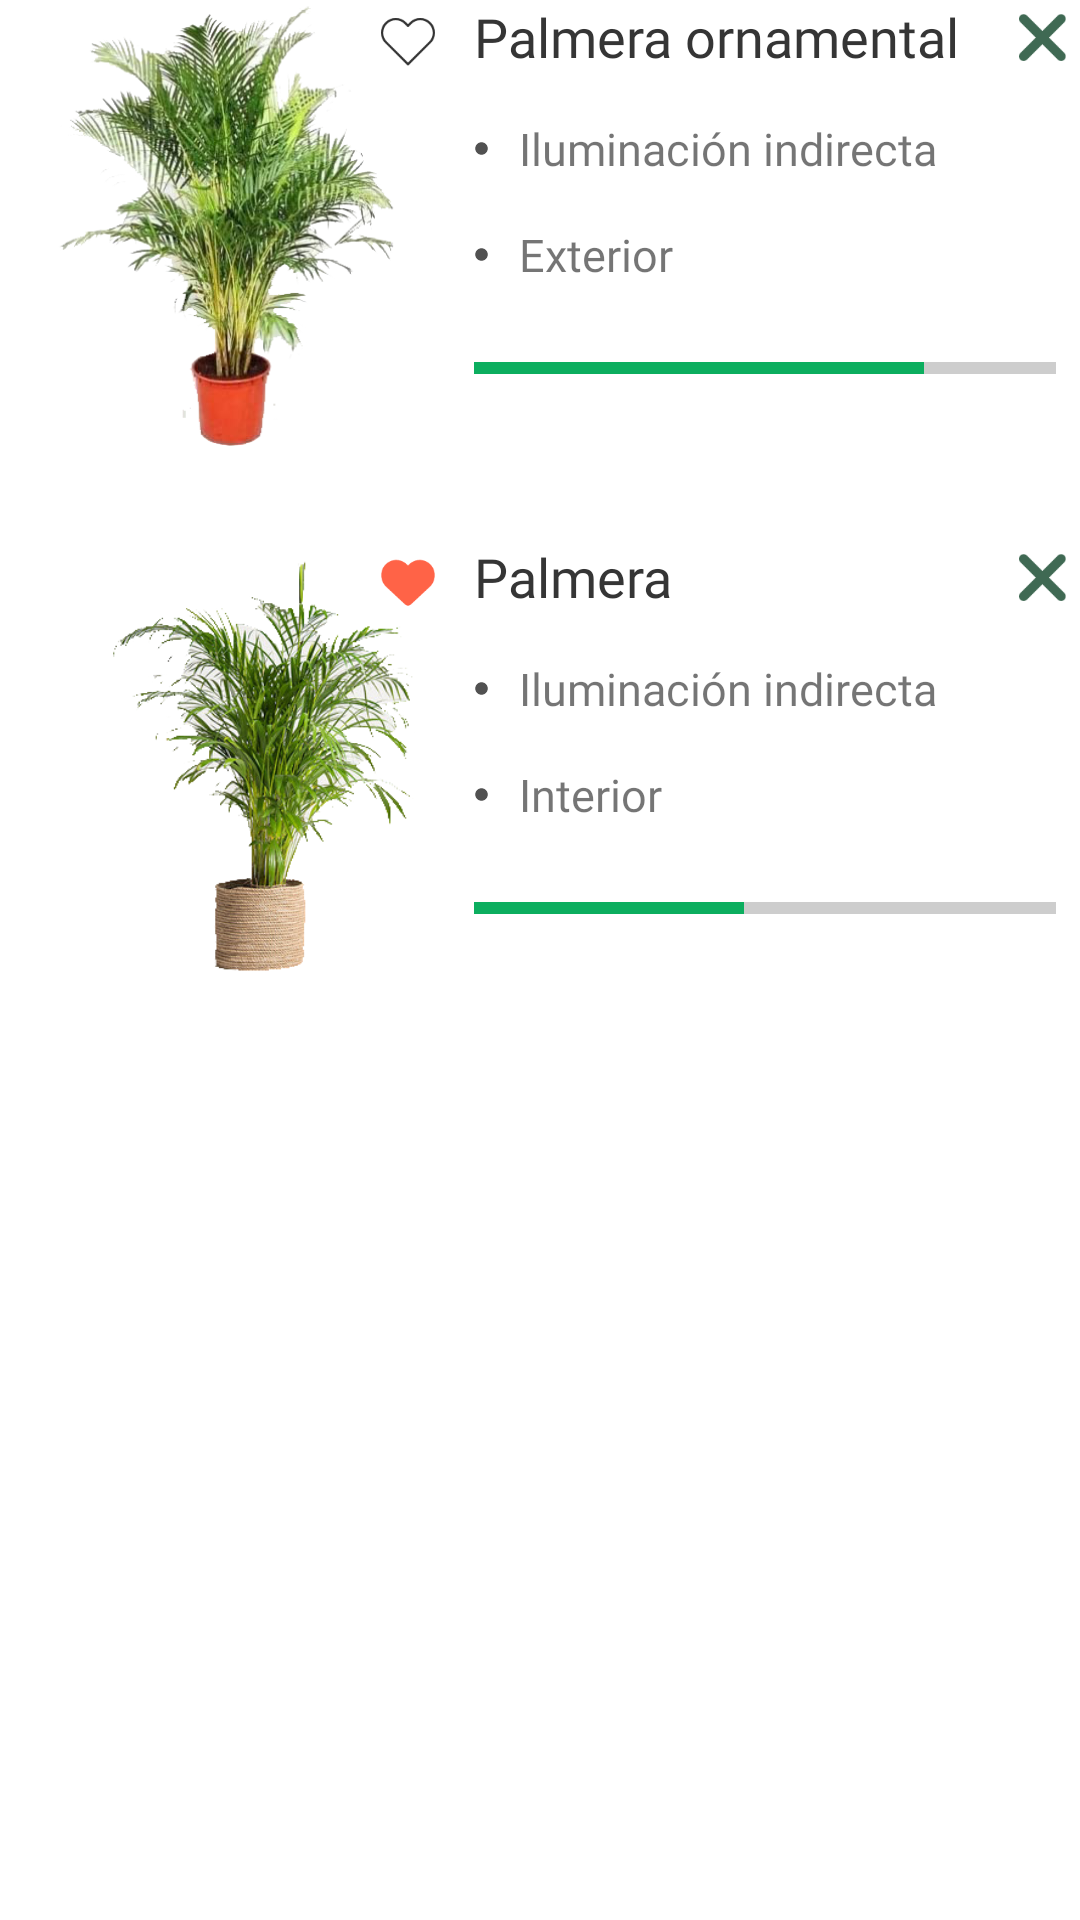

Named icons in this screenshot (1080 x 1920) and their bounding boxes, BBox(x1, y1, x2, y2):
xmark: BBox(1019, 14, 1066, 61), BBox(1019, 554, 1066, 601)
